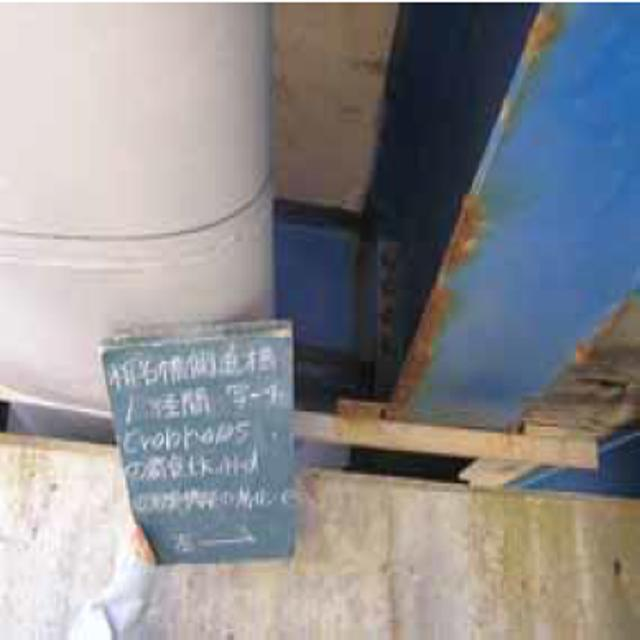corrosion: (362, 206, 478, 438)
